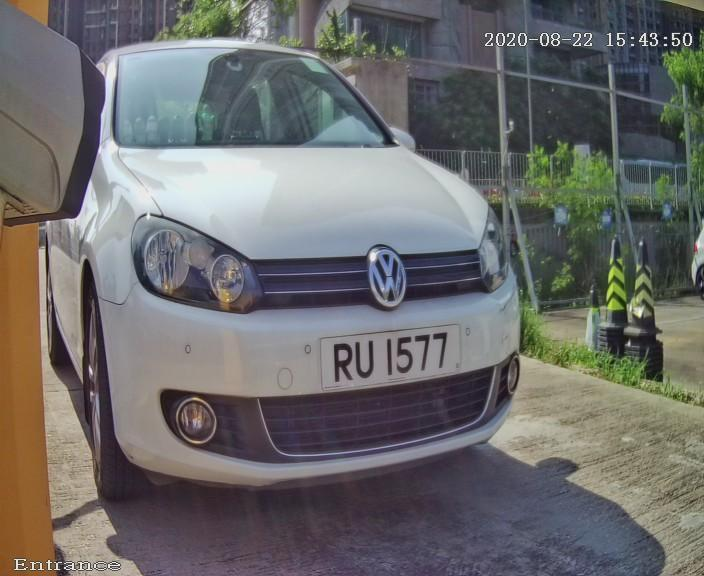Car: (4, 11, 576, 541)
License Plate: (297, 310, 478, 413)
